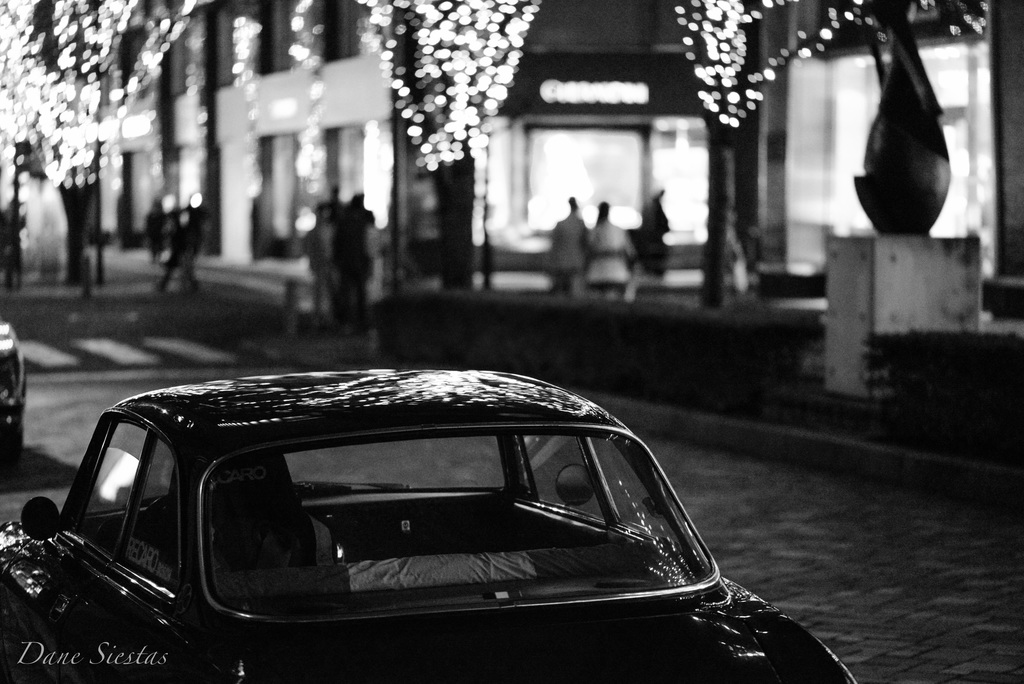Car: (16, 364, 824, 673), (0, 311, 27, 441)
